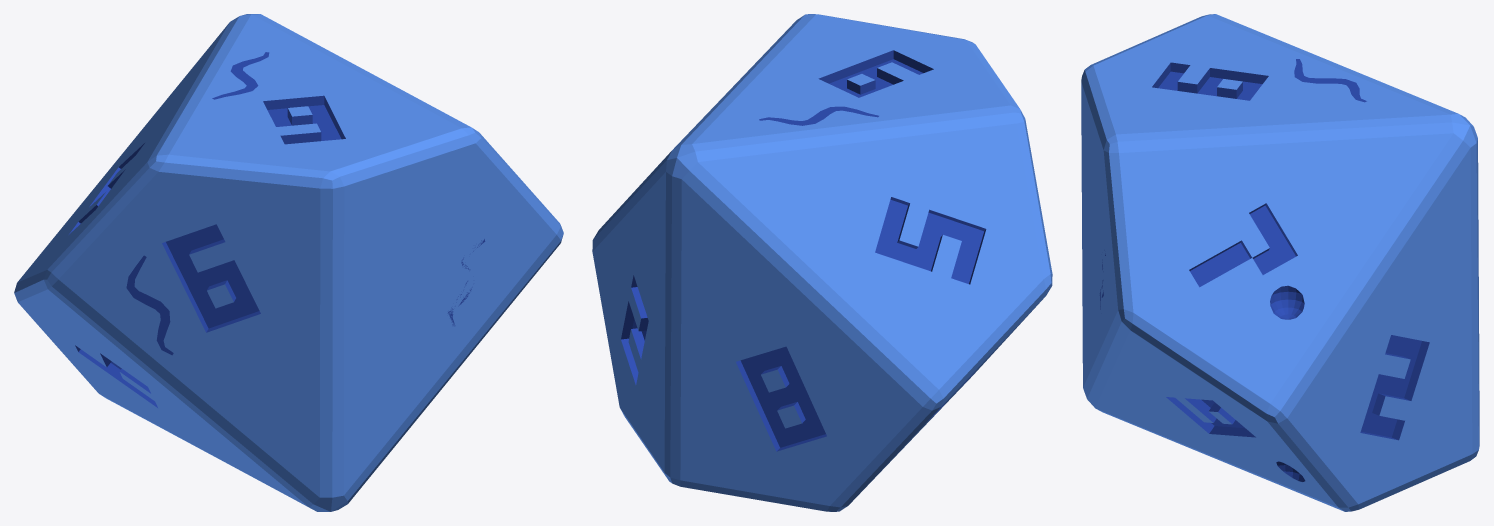
Rendered from Die_BlueCheese_d10_Lucky9.fbx.
3 renders of one model, left to right at view 1: azimuth 30°, elevation 25°; view 2: azimuth 150°, elevation 25°; view 3: azimuth 270°, elevation 25°, orthographic. The views are drawn at different scales.
Parts seen in each view (by area): view 1: Die_BlueCheese_d10_Lucky9; view 2: Die_BlueCheese_d10_Lucky9; view 3: Die_BlueCheese_d10_Lucky9.
Boxes of the visible parts, x1=… form: Die_BlueCheese_d10_Lucky9: x1=14, y1=14, x2=563, y2=511; Die_BlueCheese_d10_Lucky9: x1=592, y1=14, x2=1052, y2=511; Die_BlueCheese_d10_Lucky9: x1=1081, y1=14, x2=1479, y2=511.
Bounding box in the file's own units: 1.62 × 1.13 × 1.19.
